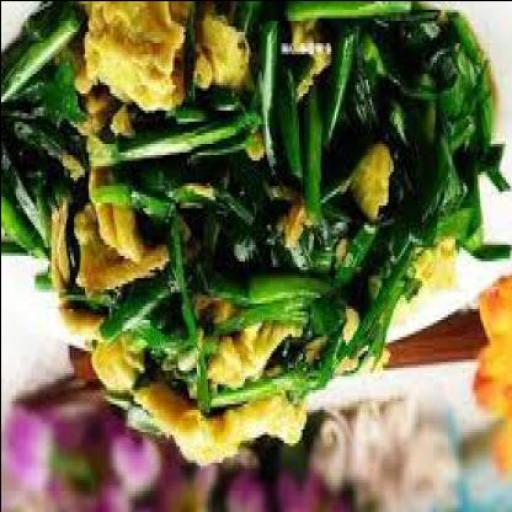biodegradable: (2, 3, 508, 470), (80, 78, 153, 272), (80, 3, 186, 126), (110, 103, 257, 165), (49, 196, 110, 344), (378, 156, 449, 283), (1, 2, 80, 114), (452, 61, 509, 202), (1, 91, 53, 241), (194, 263, 324, 319), (430, 182, 508, 275), (142, 383, 228, 467), (345, 258, 406, 376), (75, 216, 164, 296), (188, 2, 254, 104), (207, 319, 287, 400), (90, 275, 176, 347), (280, 2, 414, 42), (321, 2, 355, 154), (427, 20, 478, 120), (280, 190, 344, 269), (216, 398, 298, 459), (203, 370, 315, 414), (93, 159, 172, 221), (1, 166, 49, 261), (224, 146, 260, 271), (259, 20, 285, 190), (298, 95, 331, 226), (344, 148, 393, 230), (337, 221, 389, 297), (428, 64, 460, 182), (30, 64, 88, 123), (86, 335, 144, 392), (408, 235, 452, 302), (303, 341, 352, 397), (385, 101, 411, 204), (56, 34, 99, 95), (466, 78, 495, 162), (280, 76, 302, 182), (134, 159, 192, 199), (158, 188, 244, 214), (143, 305, 188, 347), (192, 346, 212, 426), (238, 204, 260, 226)
